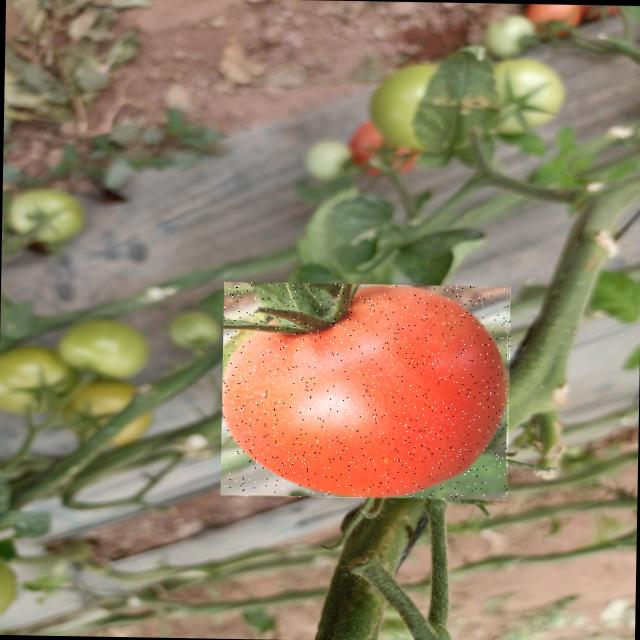Ripe Tomato: (220, 282, 511, 500)
